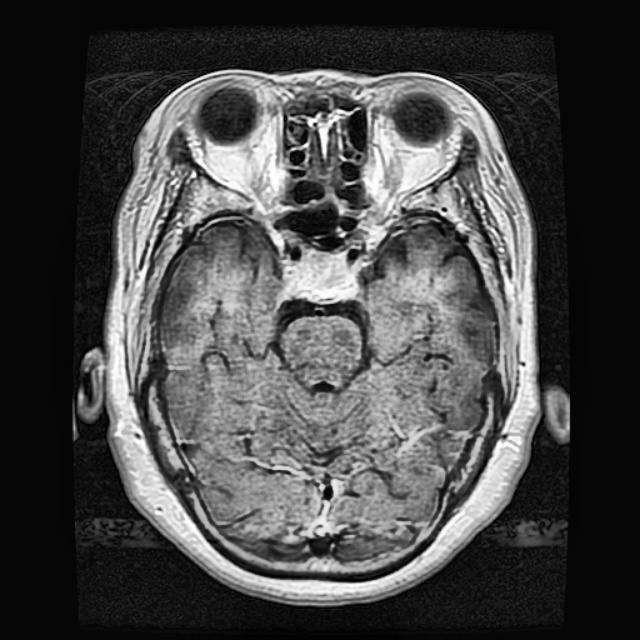Pituitary: (288, 252, 352, 300)
